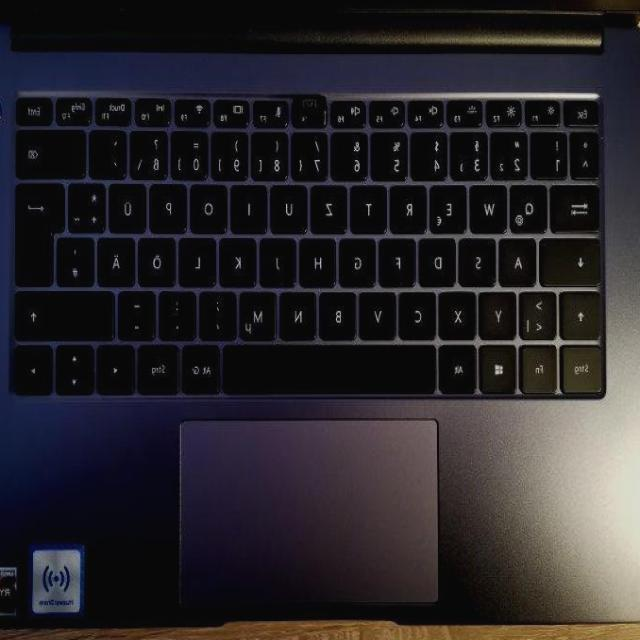0: (173, 128, 211, 178)
1: (534, 128, 570, 177)
2: (494, 128, 531, 177)
3: (453, 128, 491, 178)
4: (414, 128, 451, 178)
5: (374, 128, 411, 178)
6: (334, 129, 371, 178)
7: (294, 128, 331, 178)
8: (255, 128, 291, 178)
9: (214, 128, 251, 178)
a: (502, 234, 539, 284)
accent: (92, 126, 129, 176)
ae: (99, 234, 137, 284)
alt-left: (442, 341, 479, 391)
altgr-right: (184, 340, 222, 392)
b: (322, 288, 360, 337)
c: (401, 288, 439, 338)
caret: (573, 127, 603, 175)
comma: (201, 286, 239, 338)
d: (421, 233, 459, 285)
del: (18, 125, 88, 177)
e: (432, 181, 470, 231)
enter: (18, 178, 67, 282)
f: (382, 234, 418, 284)
g: (342, 235, 379, 284)
h: (301, 234, 339, 284)
hash: (59, 232, 97, 284)
i: (232, 180, 270, 229)
j: (262, 234, 299, 284)
k: (222, 234, 259, 284)
keyboard: (1, 82, 615, 406)
l: (181, 233, 219, 285)
less: (522, 286, 560, 338)
m: (242, 288, 280, 338)
minus: (120, 288, 158, 338)
n: (282, 288, 319, 338)
o: (192, 180, 230, 229)
oe: (140, 233, 178, 285)
p: (152, 180, 190, 229)
plus: (70, 179, 108, 229)
point: (161, 288, 198, 338)
q: (512, 179, 550, 229)
r: (392, 181, 430, 231)
s: (463, 234, 500, 284)
shift-left: (564, 286, 606, 338)
shift-lock: (543, 232, 603, 282)
shift-right: (16, 285, 117, 338)
space: (225, 339, 440, 392)
ss: (133, 126, 171, 178)
strg-left: (563, 341, 607, 391)
strg-right: (140, 339, 182, 392)
t: (352, 180, 390, 229)
tab: (553, 179, 603, 229)
u: (272, 181, 310, 231)
ue: (111, 179, 149, 229)
v: (361, 286, 399, 338)
w: (473, 180, 510, 229)
x: (441, 286, 479, 338)
y: (482, 286, 520, 338)
z: (313, 181, 350, 231)
